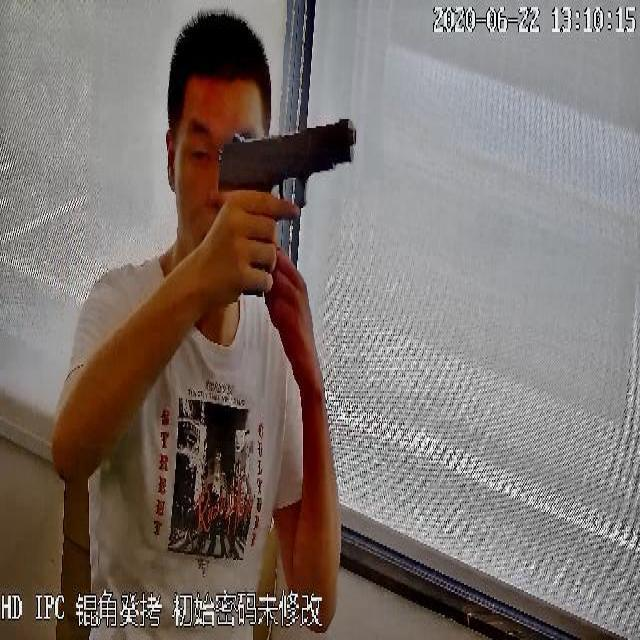pistol: (217, 113, 360, 296)
